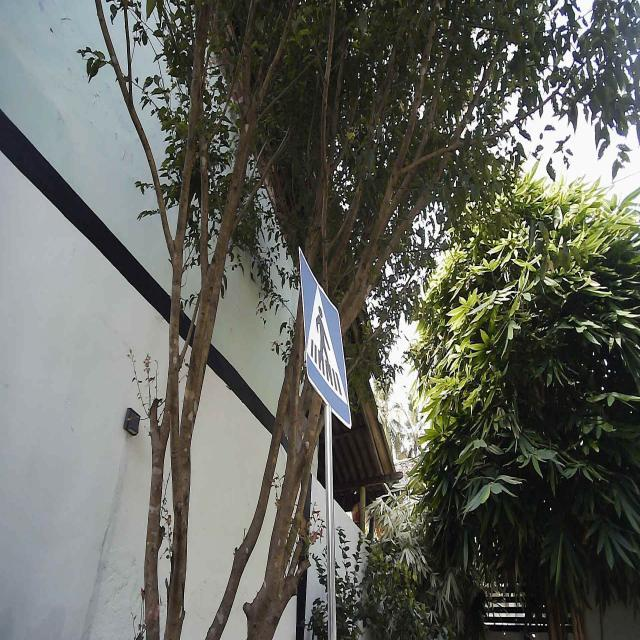crosswalk_sign: (296, 244, 354, 431)
